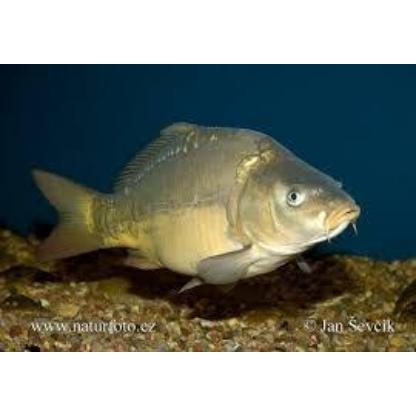ikan-mas: (30, 122, 350, 286)
